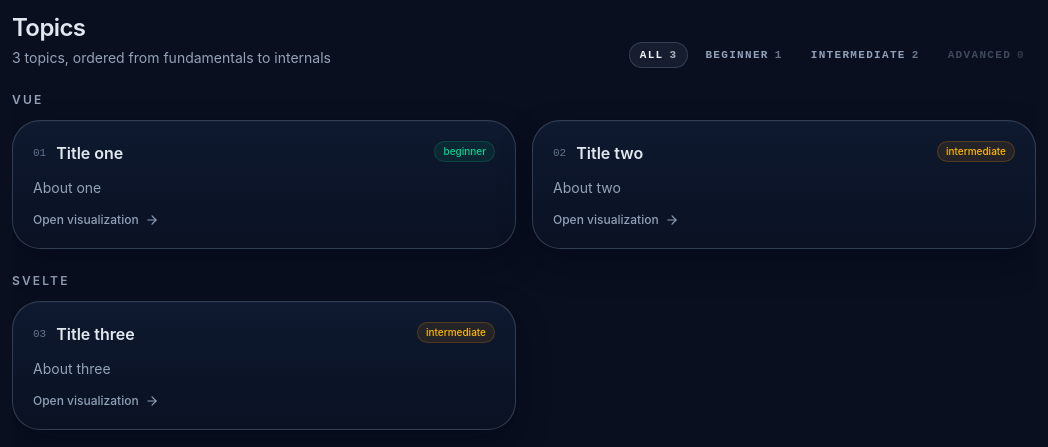
CategoryTopicGrid › filters to one level, hides empty groups, and writes the URL
The width and height of the screenshot is (1048, 447).
Click the radio button labelled "Beginner 1" at (744, 55), box [694, 42, 794, 68]
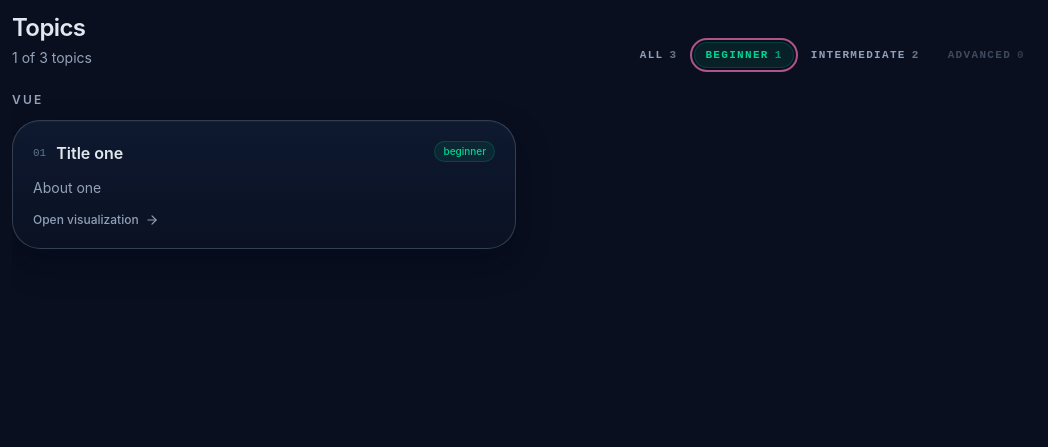
Result: the radio button labelled "Beginner 1" is checked at [694, 42, 794, 68]
Result: the text "1 of 3 topics" is shown at [12, 48, 92, 68]
